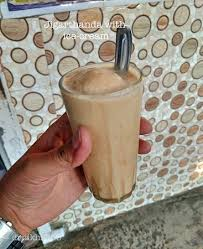jigirthanda: (61, 72, 151, 205)
